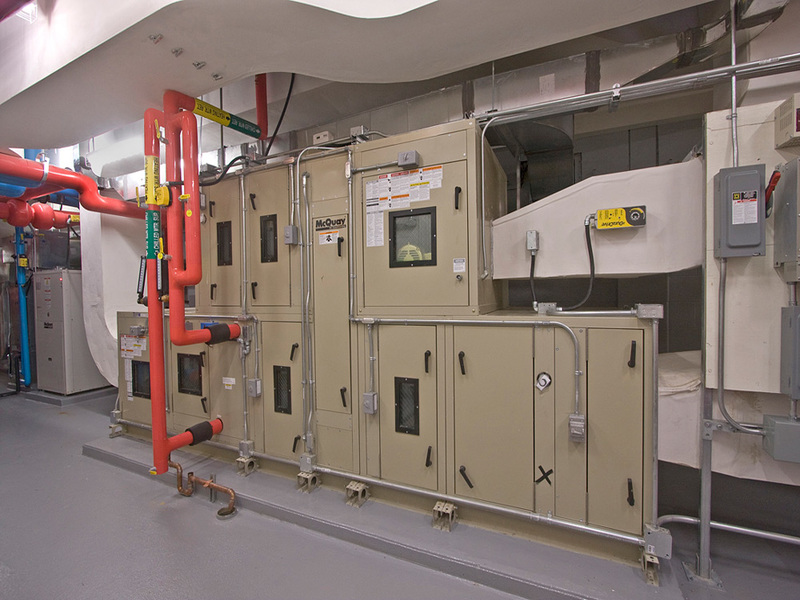valve: (148, 116, 175, 152), (154, 237, 170, 268), (132, 181, 147, 212), (175, 191, 199, 209)
